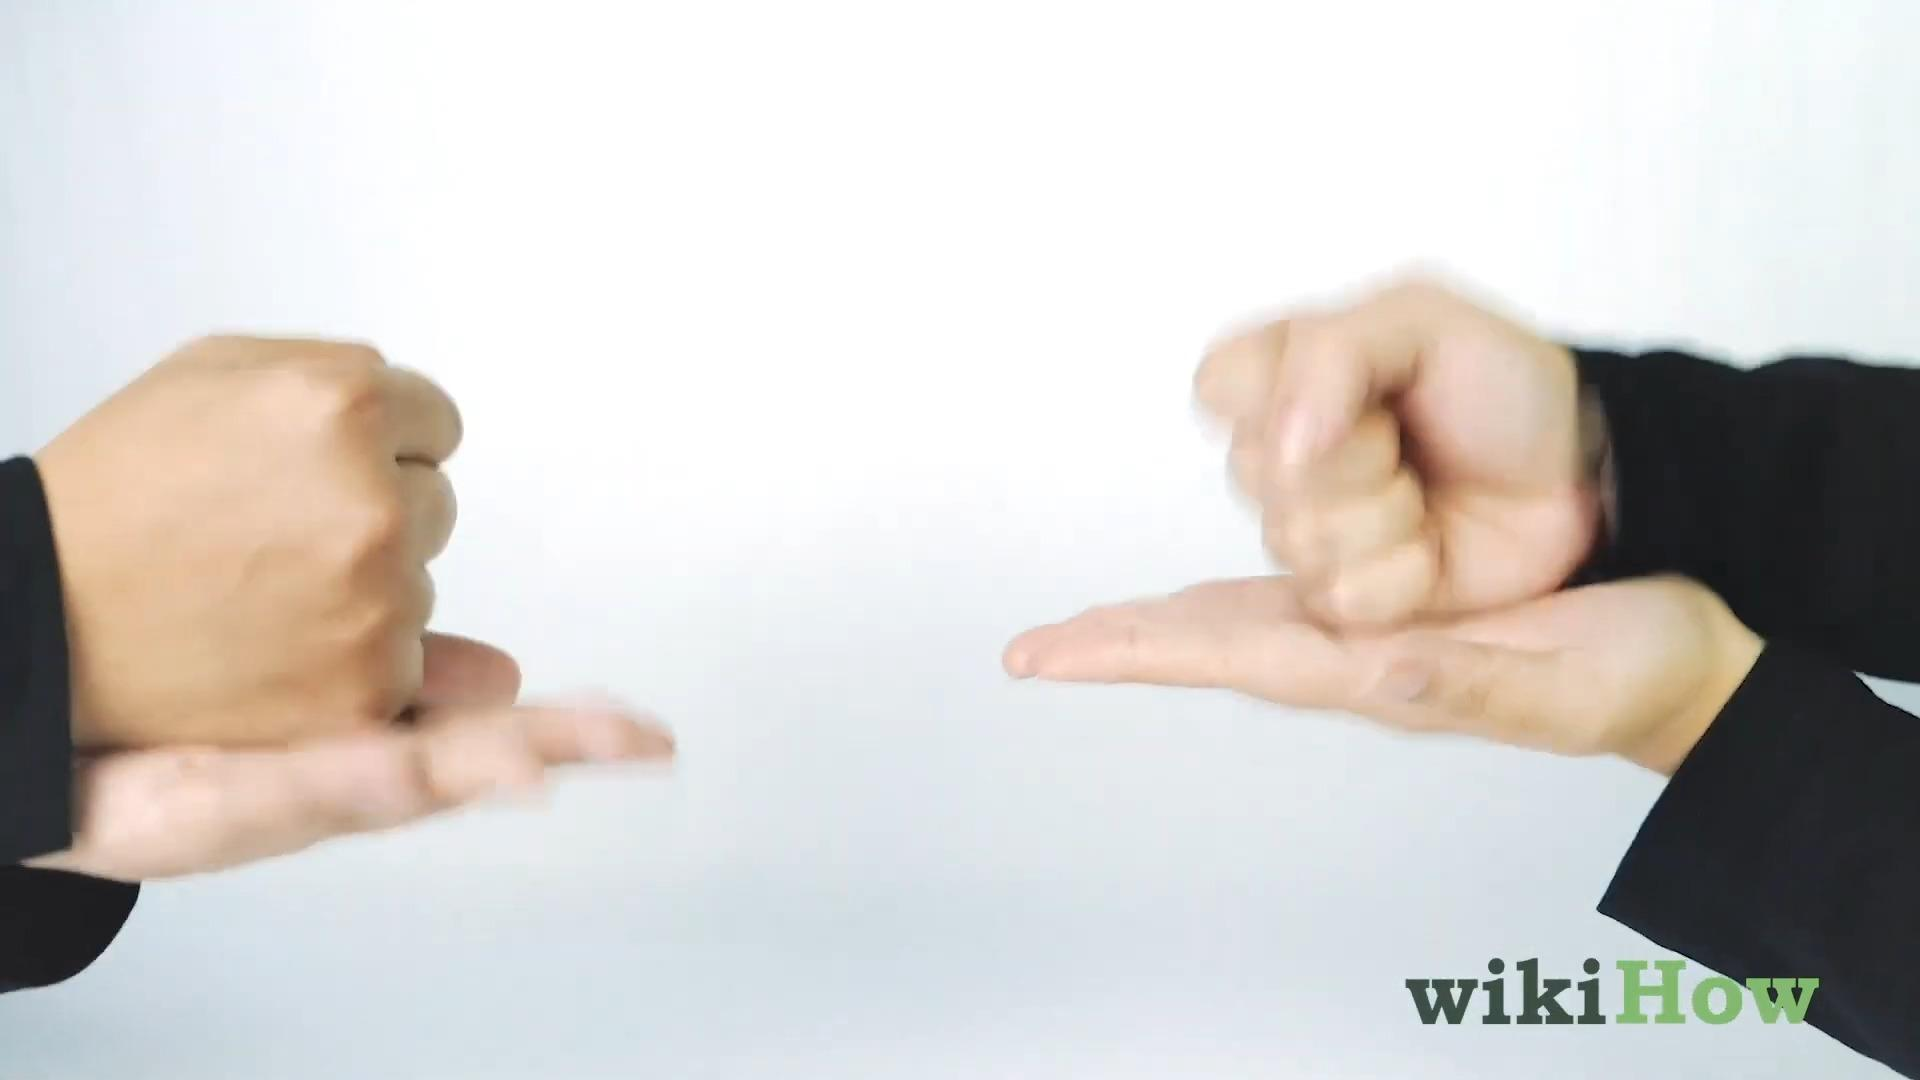Rock: (47, 332, 467, 745), (1188, 273, 1598, 637)
